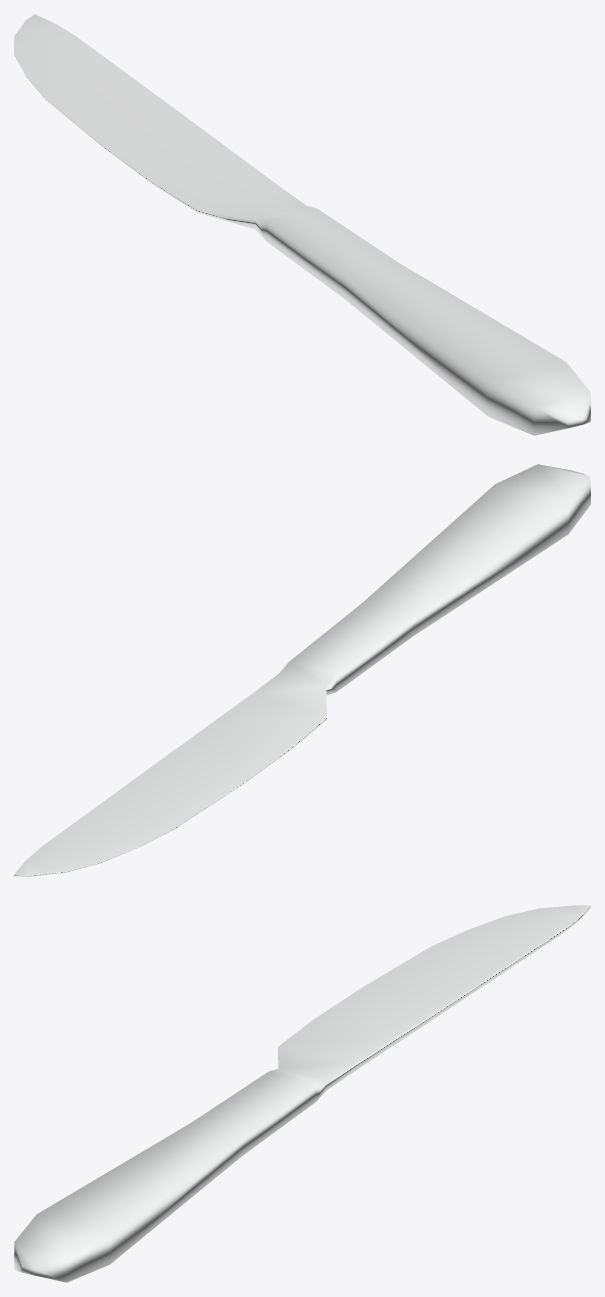
File: knive.fbx
3 views of the same model, one above another, from view 1: azimuth 30°, elevation 25°; view 2: azimuth 150°, elevation 25°; view 3: azimuth 330°, elevation 25° (orthographic). The views are drawn at different scales.
Visible parts, largest first — view 1: knive; view 2: knive; view 3: knive.
Boxes of the visible parts, bbox=[...] form: knive: bbox=[14, 14, 590, 435]; knive: bbox=[14, 464, 590, 876]; knive: bbox=[14, 905, 590, 1282].
Size of the model in its own units: 0.0282 by 0.0102 by 0.2863.
1 material, 1 textured.
